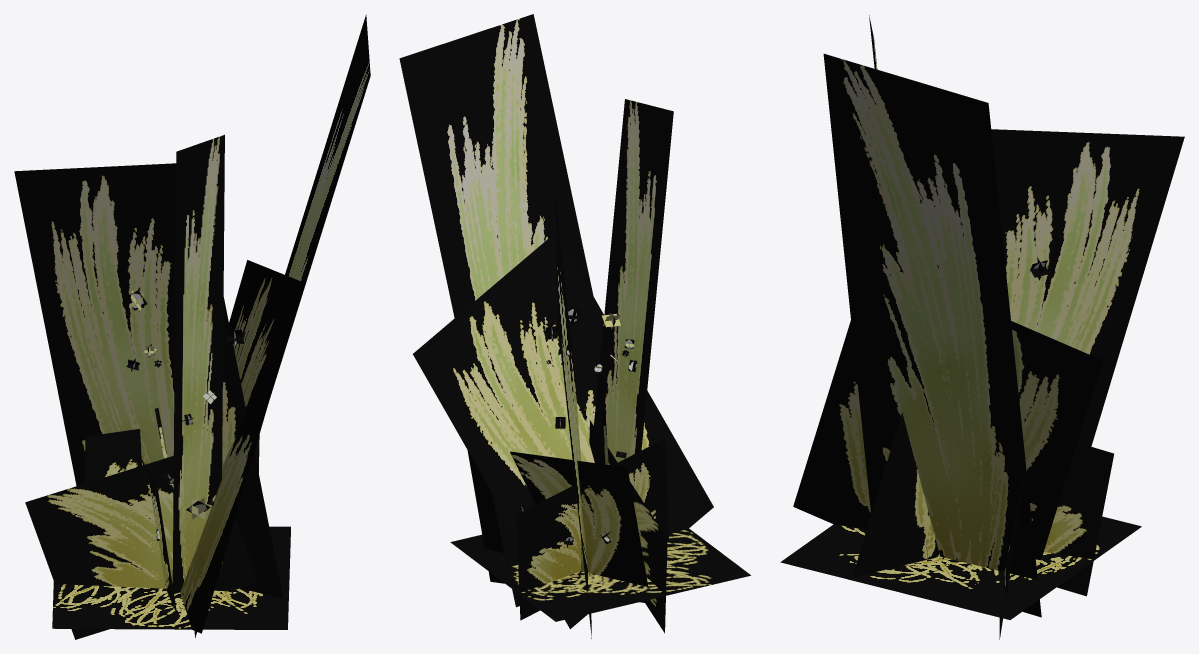
File: grass2.fbx
3 views of the same model, side by side, from view 1: azimuth 30°, elevation 25°; view 2: azimuth 150°, elevation 25°; view 3: azimuth 270°, elevation 25° (orthographic). The views are drawn at different scales.
Visible parts, largest first — view 1: FP_Blooming_Grass_020.003_BAKED; view 2: FP_Blooming_Grass_020.003_BAKED; view 3: FP_Blooming_Grass_020.003_BAKED.
Part boxes in pixels (x1,y1,x2,y2): FP_Blooming_Grass_020.003_BAKED: [14, 14, 370, 639]; FP_Blooming_Grass_020.003_BAKED: [399, 14, 750, 638]; FP_Blooming_Grass_020.003_BAKED: [780, 15, 1184, 639].
Size of the model in its own units: 58.88 by 92.02 by 54.01.
